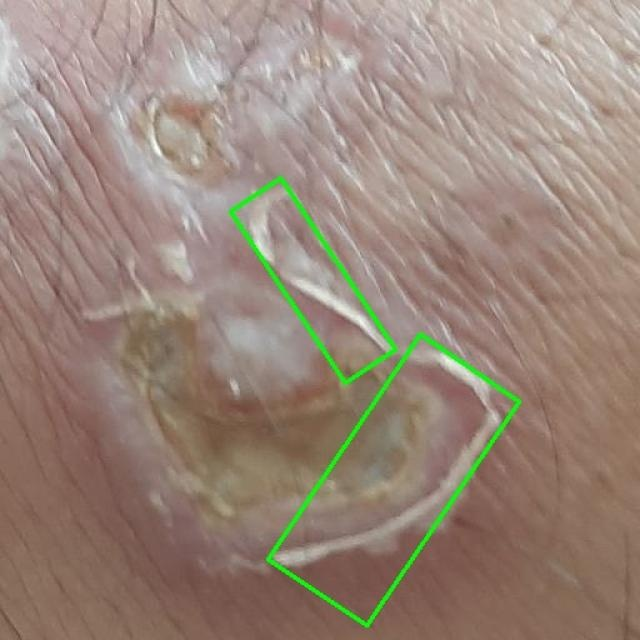Contact Dermatitis: (268, 334, 520, 626), (230, 178, 395, 383)
